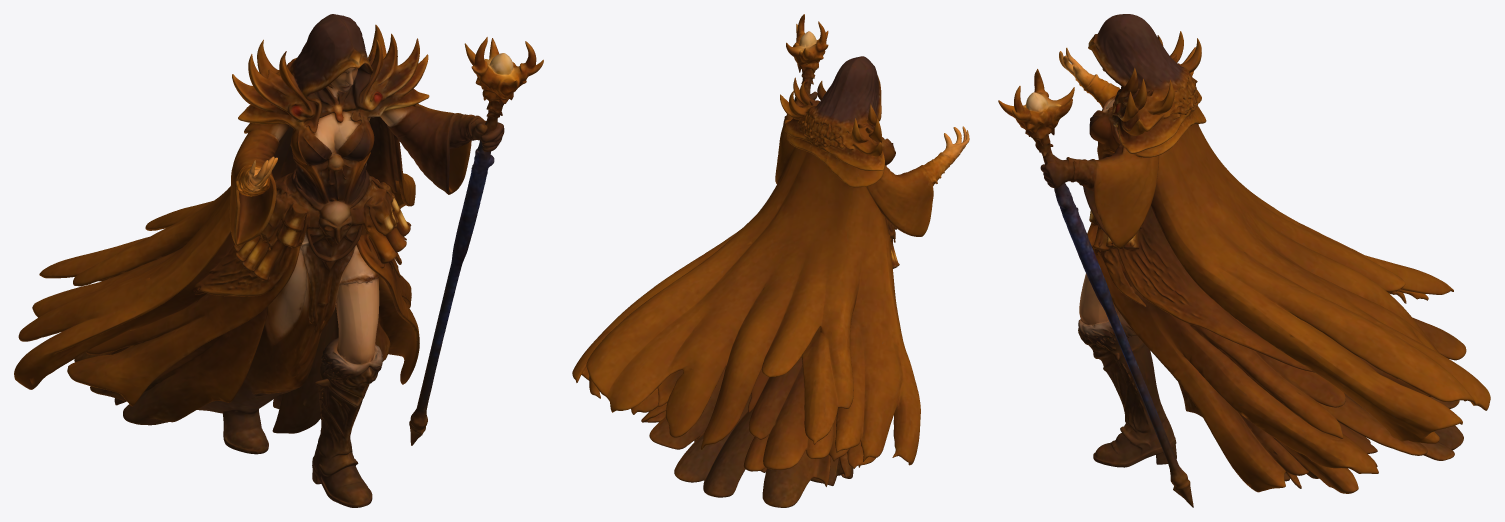
File: sorcerer_full_female_01.glb
3 renders of one model, left to right at view 1: azimuth 30°, elevation 25°; view 2: azimuth 150°, elevation 25°; view 3: azimuth 270°, elevation 25°, orthographic. The views are drawn at different scales.
Visible parts, largest first — view 1: material; view 2: material; view 3: material.
Boxes of the visible parts, x1,y1,x2,y2 form: material: (14,14,543,507); material: (572,14,969,507); material: (998,14,1490,507).
Bounding box in the file's own units: 0.7527 × 0.8453 × 0.8492.
1 material, 1 textured.
